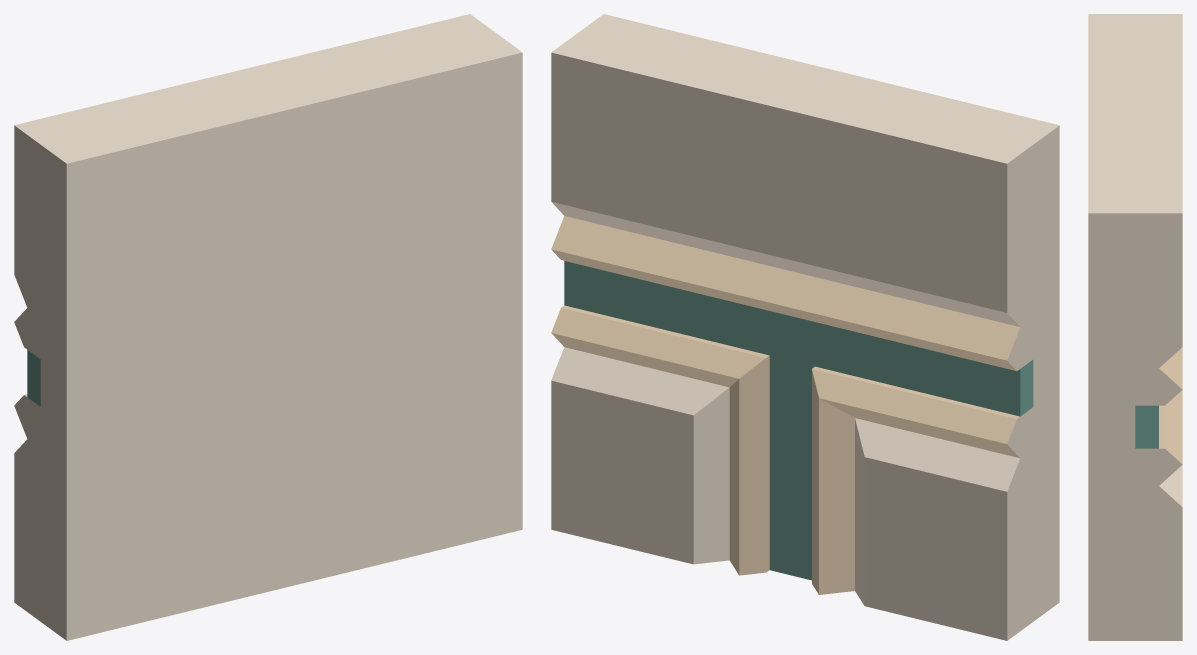
File: Puzzle_Wall_Conduit_Path_TJoint.glb
3 renders of one model, left to right at view 1: azimuth 30°, elevation 25°; view 2: azimuth 150°, elevation 25°; view 3: azimuth 270°, elevation 25°, orthographic. The views are drawn at different scales.
Visible parts, largest first — view 1: Puzzle_Wall_Conduit_Path_TJoint; view 2: Puzzle_Wall_Conduit_Path_TJoint; view 3: Puzzle_Wall_Conduit_Path_TJoint.
Part boxes in pixels (x1,y1,x2,y2): Puzzle_Wall_Conduit_Path_TJoint: [14, 14, 522, 640]; Puzzle_Wall_Conduit_Path_TJoint: [551, 14, 1059, 640]; Puzzle_Wall_Conduit_Path_TJoint: [1088, 14, 1182, 640].
Size of the model in its own units: 1 by 1 by 0.2.
